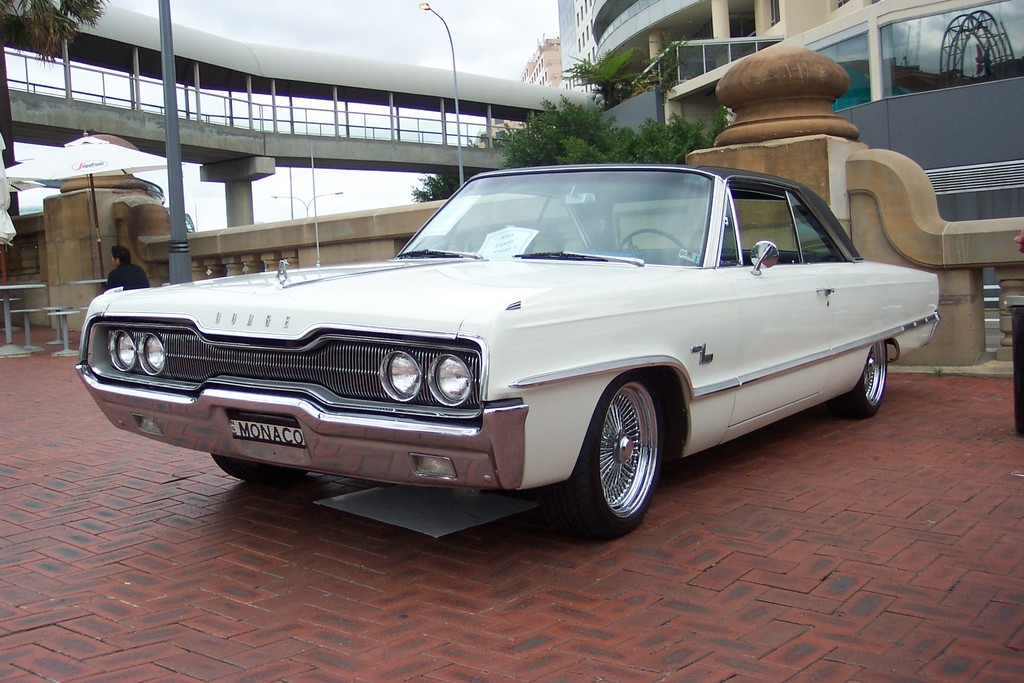Car: (73, 162, 944, 534)
